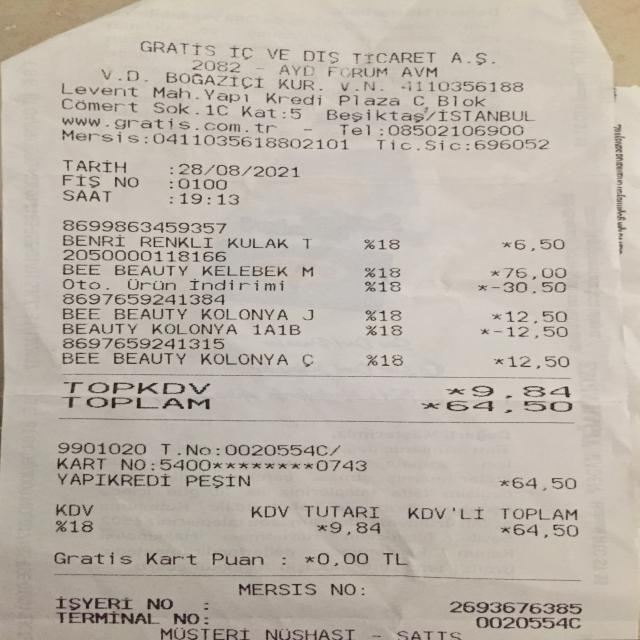text: (157, 129, 354, 152), (63, 217, 225, 235), (64, 376, 209, 396), (62, 394, 209, 412), (60, 120, 276, 132), (62, 291, 224, 306), (179, 160, 298, 180), (451, 598, 582, 616), (63, 250, 226, 264), (62, 336, 224, 350), (446, 396, 572, 414), (388, 122, 525, 138), (57, 470, 169, 487), (401, 79, 525, 93), (58, 127, 140, 148), (168, 73, 265, 90), (55, 610, 158, 626), (353, 48, 439, 67), (201, 350, 287, 369), (224, 441, 325, 457), (142, 37, 215, 59), (61, 95, 136, 116), (190, 276, 284, 292), (327, 109, 426, 124), (472, 383, 570, 398), (476, 616, 580, 630), (440, 109, 536, 124), (160, 624, 250, 640), (58, 440, 145, 456), (501, 504, 576, 522), (59, 593, 134, 611), (114, 349, 185, 368), (202, 306, 286, 322), (62, 83, 136, 101), (304, 502, 378, 520), (408, 503, 482, 521), (262, 626, 354, 640), (152, 321, 235, 336), (202, 264, 287, 278), (62, 320, 136, 336), (54, 550, 131, 565), (140, 234, 211, 250), (62, 156, 125, 174), (328, 61, 386, 80), (114, 306, 186, 321), (494, 324, 566, 339), (185, 472, 250, 488), (491, 280, 565, 294), (377, 140, 462, 152), (115, 263, 187, 277), (238, 582, 315, 595), (513, 522, 578, 537), (475, 139, 548, 152), (504, 265, 566, 280), (228, 234, 286, 250), (63, 233, 124, 248), (340, 93, 400, 108), (182, 191, 242, 206), (160, 455, 210, 473), (512, 476, 576, 490), (504, 308, 567, 322), (438, 92, 482, 112), (507, 354, 569, 368), (194, 57, 239, 76), (316, 457, 366, 474), (265, 92, 321, 107), (178, 175, 226, 192), (57, 455, 105, 472), (252, 321, 300, 337), (128, 276, 175, 292), (146, 550, 196, 565), (318, 551, 368, 566), (64, 187, 108, 204), (341, 118, 378, 138), (100, 66, 144, 82), (514, 237, 564, 251), (330, 520, 380, 534), (212, 551, 262, 565), (303, 47, 340, 65), (62, 349, 99, 367), (396, 630, 461, 640), (252, 501, 288, 519), (452, 49, 491, 65), (206, 90, 250, 104), (402, 64, 436, 82), (154, 87, 192, 102), (58, 174, 100, 187), (56, 502, 92, 517), (62, 277, 100, 291), (340, 80, 383, 92), (279, 77, 315, 91), (63, 262, 99, 276), (63, 306, 99, 320), (153, 102, 190, 115), (238, 106, 276, 118), (282, 64, 314, 78), (121, 456, 145, 472), (115, 173, 137, 190), (381, 352, 402, 369), (150, 594, 171, 611), (70, 518, 92, 534), (174, 610, 196, 626), (163, 441, 186, 456), (383, 552, 407, 566), (187, 441, 209, 456), (270, 46, 288, 64), (203, 104, 230, 116), (379, 307, 400, 322), (331, 582, 355, 595), (378, 279, 400, 293), (378, 237, 398, 252), (421, 397, 439, 413), (378, 265, 400, 278), (446, 383, 465, 398), (380, 324, 402, 336), (235, 43, 248, 61), (298, 353, 314, 367), (363, 353, 378, 367), (364, 279, 376, 293), (364, 236, 374, 252), (56, 518, 66, 534), (316, 520, 327, 534), (378, 119, 386, 138), (414, 94, 424, 108), (501, 237, 511, 251), (492, 308, 502, 322), (303, 307, 312, 322), (283, 102, 290, 121), (364, 265, 374, 278), (198, 84, 205, 102), (491, 265, 499, 280), (366, 307, 374, 322), (366, 324, 376, 336), (480, 323, 488, 338), (305, 551, 313, 566), (303, 264, 312, 277), (493, 355, 502, 368), (293, 107, 301, 121), (478, 280, 486, 294), (500, 476, 508, 490), (216, 441, 223, 456), (256, 59, 261, 77), (306, 236, 312, 251), (333, 442, 339, 457), (150, 456, 154, 472), (106, 277, 109, 291)
